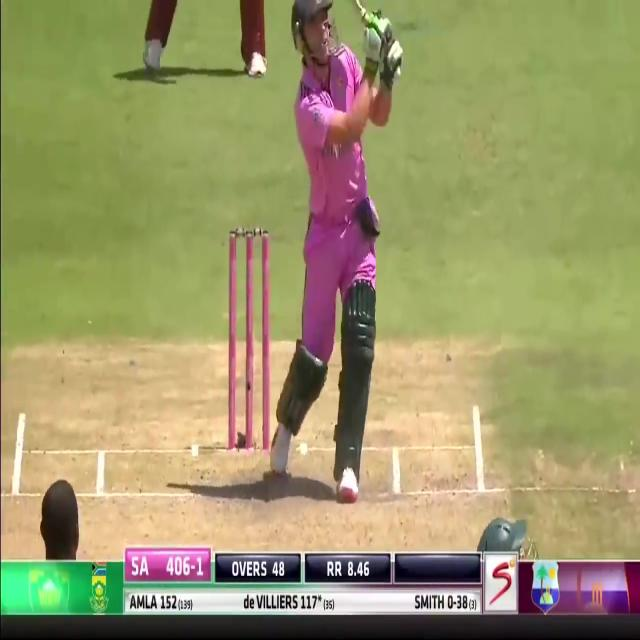Ball: (286, 0, 382, 499)
